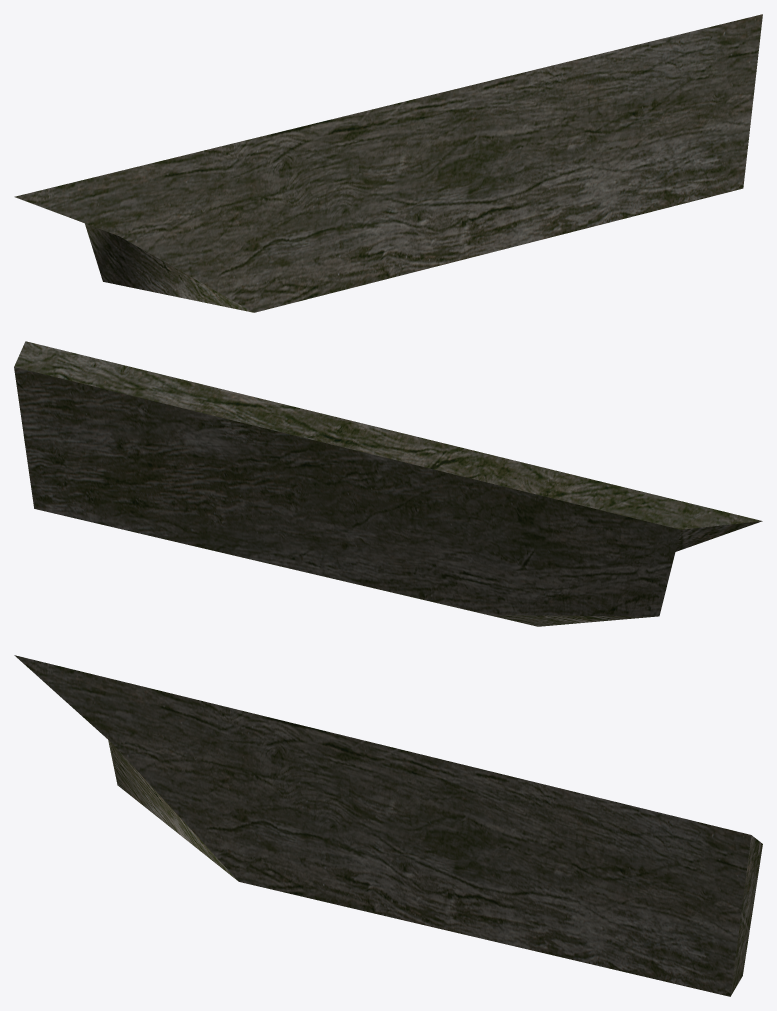
The model's file is TI_Plank_07.fbx.
3 renders of one model, top to bottom at view 1: azimuth 30°, elevation 25°; view 2: azimuth 150°, elevation 25°; view 3: azimuth 330°, elevation 25°, orthographic.
Parts seen in each view (by area): view 1: TI_Plank_07; view 2: TI_Plank_07; view 3: TI_Plank_07.
Part boxes in pixels (left/top/right/bottom): TI_Plank_07: left=14, top=14, right=762, bottom=312; TI_Plank_07: left=14, top=341, right=762, bottom=626; TI_Plank_07: left=14, top=655, right=762, bottom=996.
Bounding box in the file's own units: 2.29 × 0.4941 × 0.0934.
